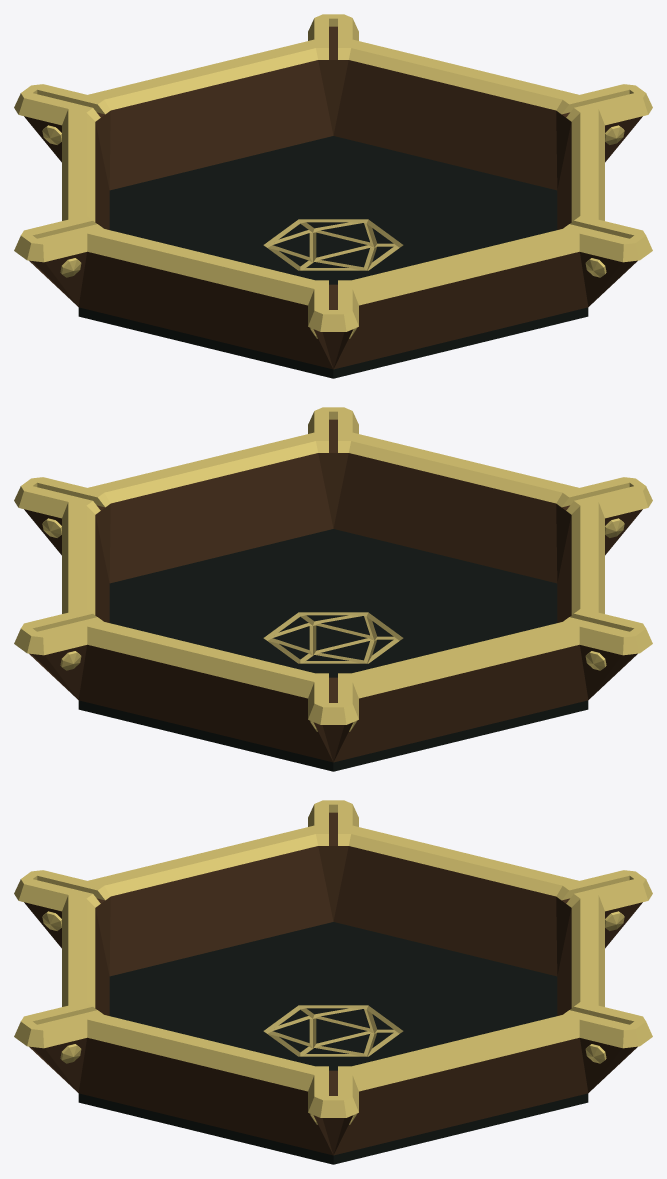
The model's file is hexagonal-dice-tray-883963.glb.
3 views of the same model, one above another, from view 1: azimuth 30°, elevation 25°; view 2: azimuth 150°, elevation 25°; view 3: azimuth 270°, elevation 25° (orthographic).
Visible parts, largest first — view 1: tray, gilt; view 2: tray, gilt; view 3: tray, gilt.
Boxes of the visible parts, x1=… form: tray: x1=24, y1=26, x2=642, y2=378; gilt: x1=14, y1=14, x2=652, y2=338; tray: x1=24, y1=419, x2=642, y2=771; gilt: x1=14, y1=407, x2=652, y2=731; tray: x1=24, y1=812, x2=642, y2=1164; gilt: x1=14, y1=800, x2=652, y2=1124.
Bounding box in the file's own units: 0.2835 × 0.039 × 0.2507.
